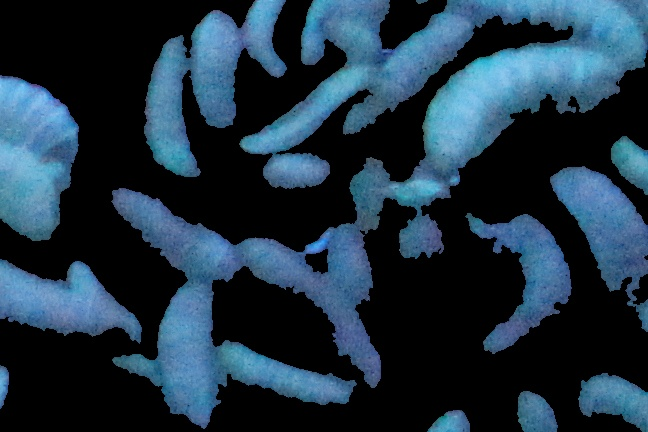larvae: (426, 47, 619, 168), (245, 229, 379, 387), (553, 167, 648, 330), (451, 1, 648, 73), (355, 10, 470, 127), (483, 215, 572, 360), (99, 187, 237, 280), (244, 62, 383, 152), (152, 281, 227, 432), (226, 345, 353, 427), (133, 35, 205, 178), (1, 261, 106, 343), (189, 11, 250, 138), (1, 68, 76, 164), (318, 226, 388, 304), (1, 153, 62, 238), (577, 365, 648, 426), (243, 1, 295, 83), (300, 1, 337, 69)
